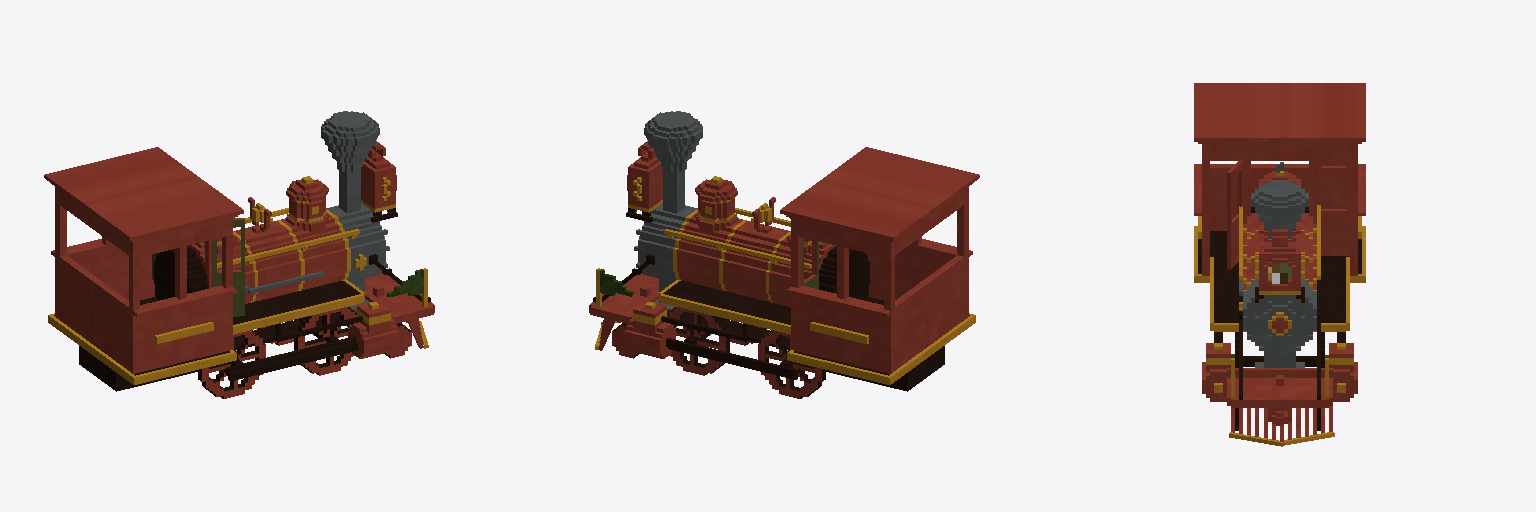
3 views of the same model, side by side, from view 1: azimuth 30°, elevation 25°; view 2: azimuth 150°, elevation 25°; view 3: azimuth 270°, elevation 25° (orthographic).
Parts seen in each view (by area): view 1: Object_2.001, Object_3; view 2: Object_3, Object_2.001; view 3: Object_3, Object_2.001.
Boxes of the visible parts, box(x1,y1,x2,y2) form: Object_2.001: box(50, 111, 434, 398); Object_3: box(44, 147, 433, 384); Object_3: box(590, 147, 979, 384); Object_2.001: box(589, 111, 973, 398); Object_3: box(1194, 83, 1365, 446); Object_2.001: box(1198, 142, 1361, 445).
Size of the model in its own units: 10.23 by 6.57 by 4.52.
1 materials, 1 textured.